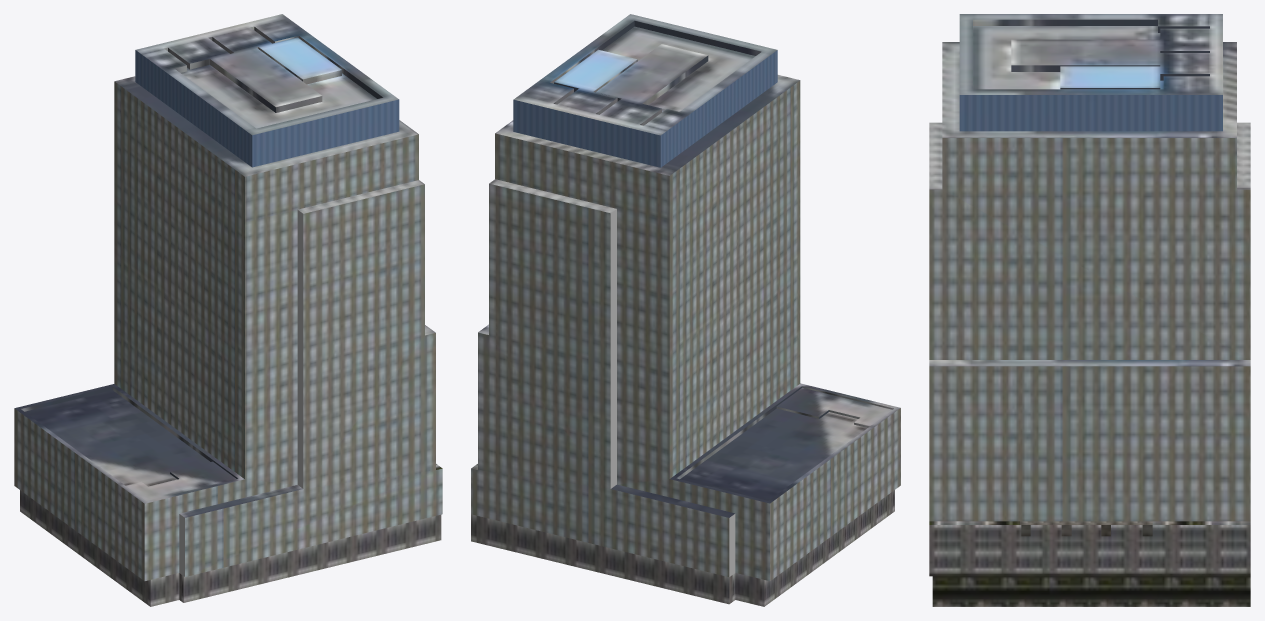
The model's file is excellence_building_8e1904f6.glb.
3 renders of one model, left to right at view 1: azimuth 30°, elevation 25°; view 2: azimuth 150°, elevation 25°; view 3: azimuth 270°, elevation 25°, orthographic. The views are drawn at different scales.
Parts seen in each view (by area): view 1: excellence_building_8e1904f6; view 2: excellence_building_8e1904f6; view 3: excellence_building_8e1904f6.
Boxes of the visible parts, x1,y1,x2,y2 form: excellence_building_8e1904f6: (14, 14, 442, 606); excellence_building_8e1904f6: (471, 14, 900, 606); excellence_building_8e1904f6: (929, 14, 1250, 606).
Bounding box in the file's own units: 60.4 × 86.78 × 50.98.
Materials: 1 (1 with a texture image).
